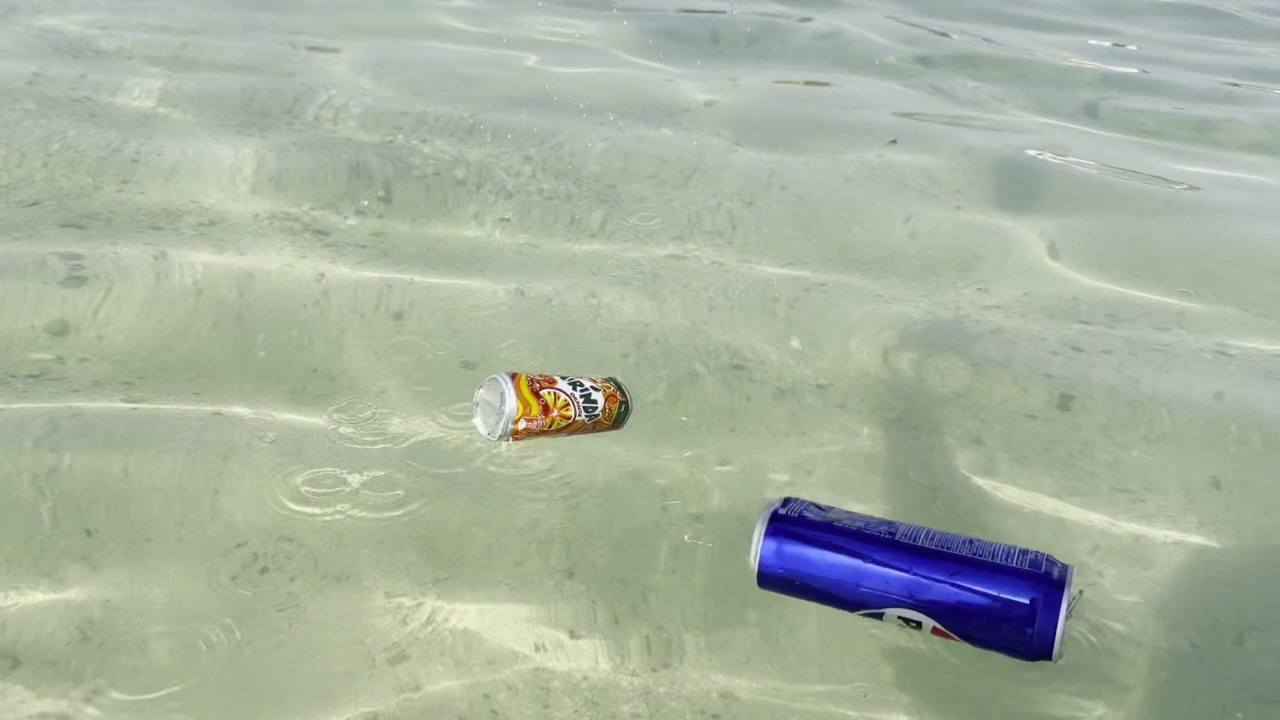debris: (740, 492, 1090, 682), (456, 370, 643, 447)
